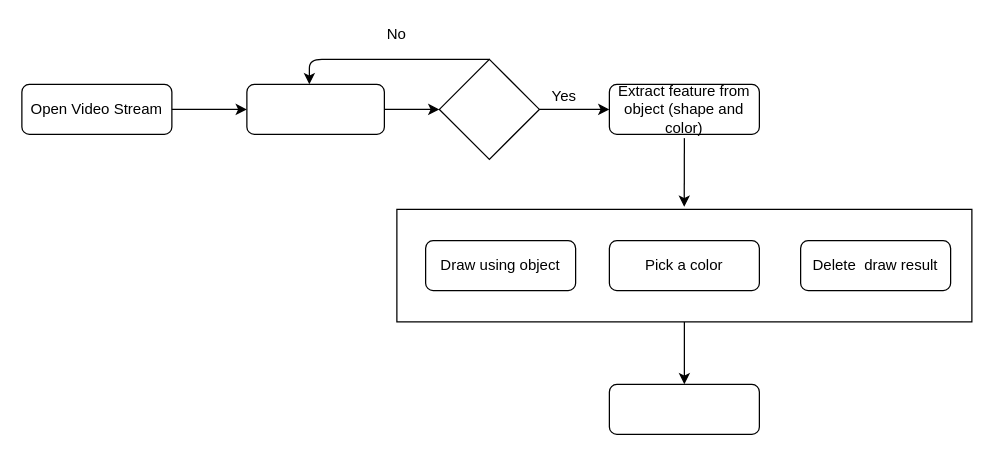
Some shapes in this 994 by 456 pixel diagram are drawn without their labels. Each missing label, with the centre of its shape:
Object found?: the point at 488,108
Recognize an object: the point at 315,108
Save draw into window paint: the point at 683,408
